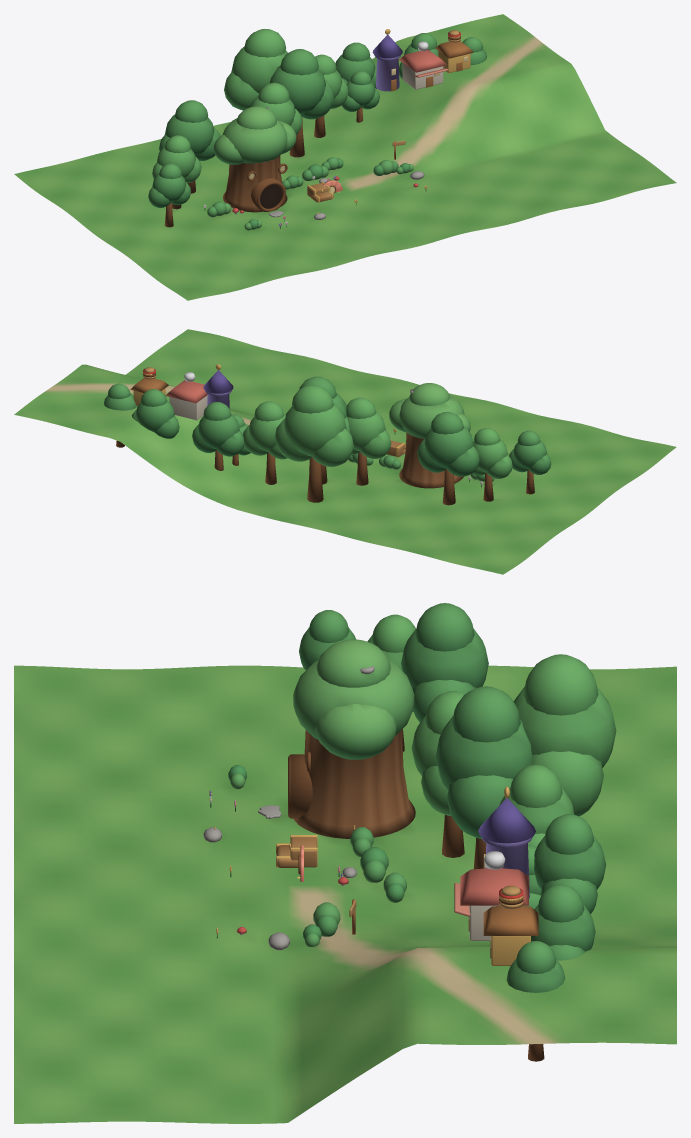
Rendered from forest.glb.
3 views of the same model, one above another, from view 1: azimuth 30°, elevation 25°; view 2: azimuth 150°, elevation 25°; view 3: azimuth 270°, elevation 25° (orthographic). The views are drawn at different scales.
Visible parts, largest first — view 1: glade, village; view 2: glade, village; view 3: glade, village, chest.
Boxes of the visible parts, x1,y1,x2,y2 form: glade: (14,14,676,300); village: (341,29,486,122); glade: (14,329,676,574); village: (104,364,250,465); glade: (14,603,676,1123); village: (454,786,595,1061); chest: (289,835,317,867).
Size of the model in its own units: 26 by 6.33 by 16.
